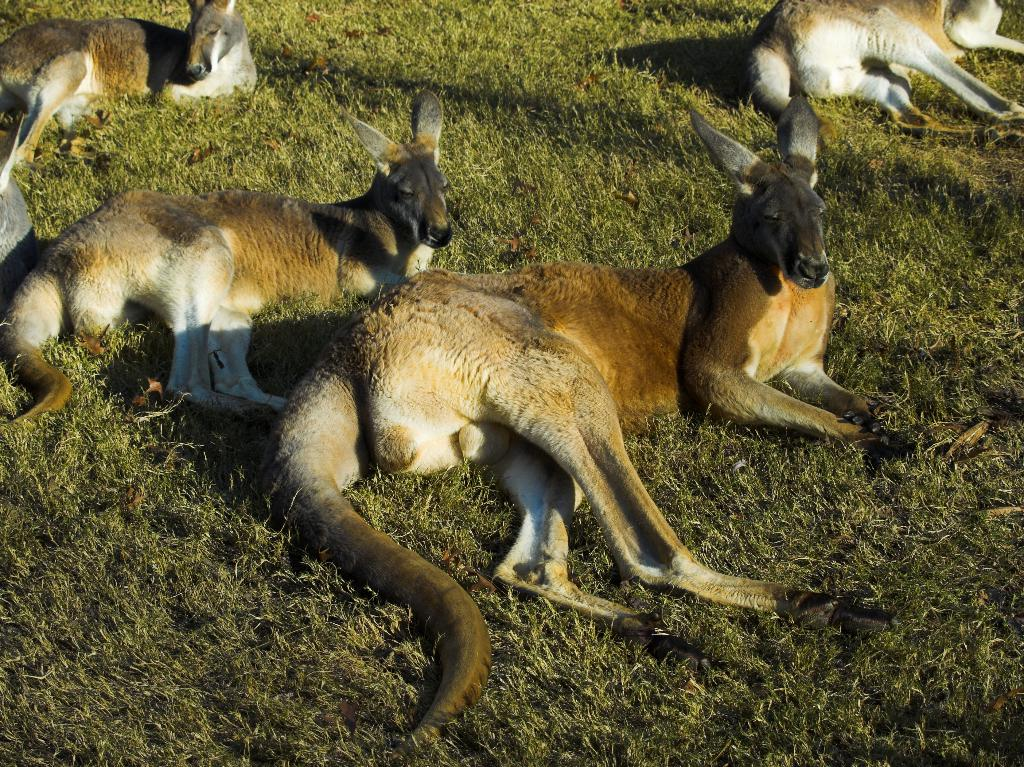kangaroo: (256, 93, 951, 761)
